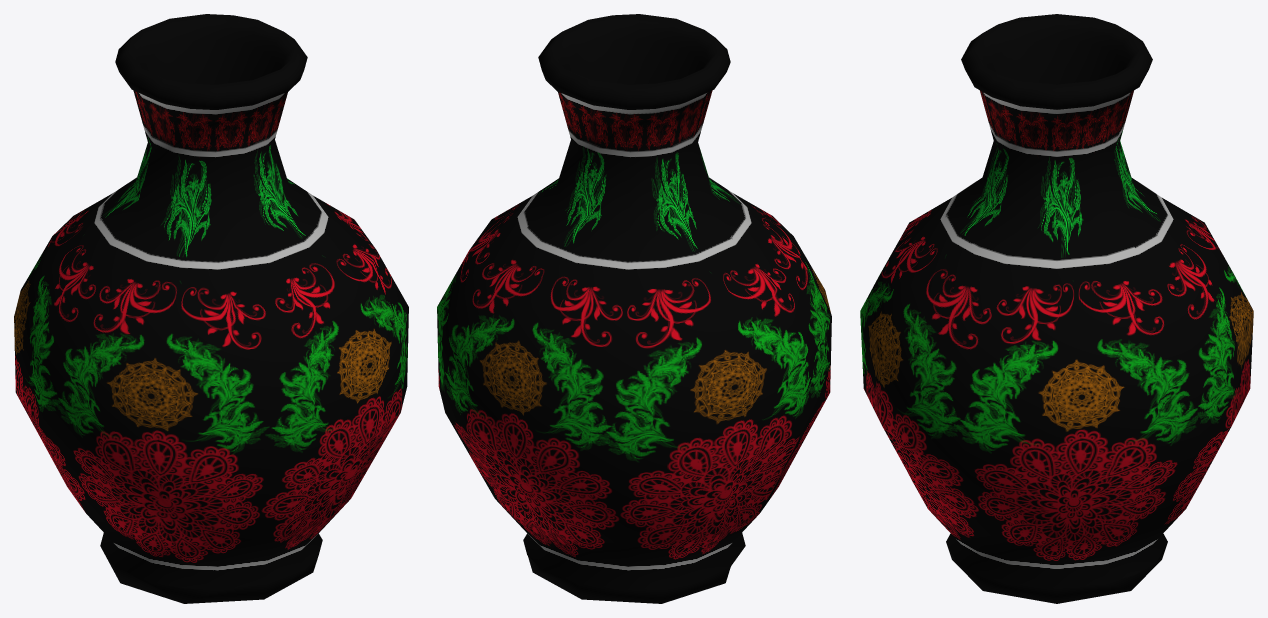
File: JVase_23.fbx
3 views of the same model, side by side, from view 1: azimuth 30°, elevation 25°; view 2: azimuth 150°, elevation 25°; view 3: azimuth 270°, elevation 25° (orthographic).
Visible parts, largest first — view 1: JVase_23; view 2: JVase_23; view 3: JVase_23.
Part boxes in pixels (x1,y1,x2,y2): JVase_23: (14,14,408,603); JVase_23: (437,14,831,603); JVase_23: (860,14,1253,603).
Bounding box in the file's own units: 44.32 × 63.39 × 44.32.
